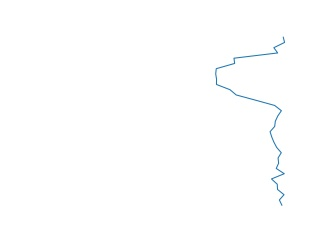distalBar: (210, 35, 292, 206)
